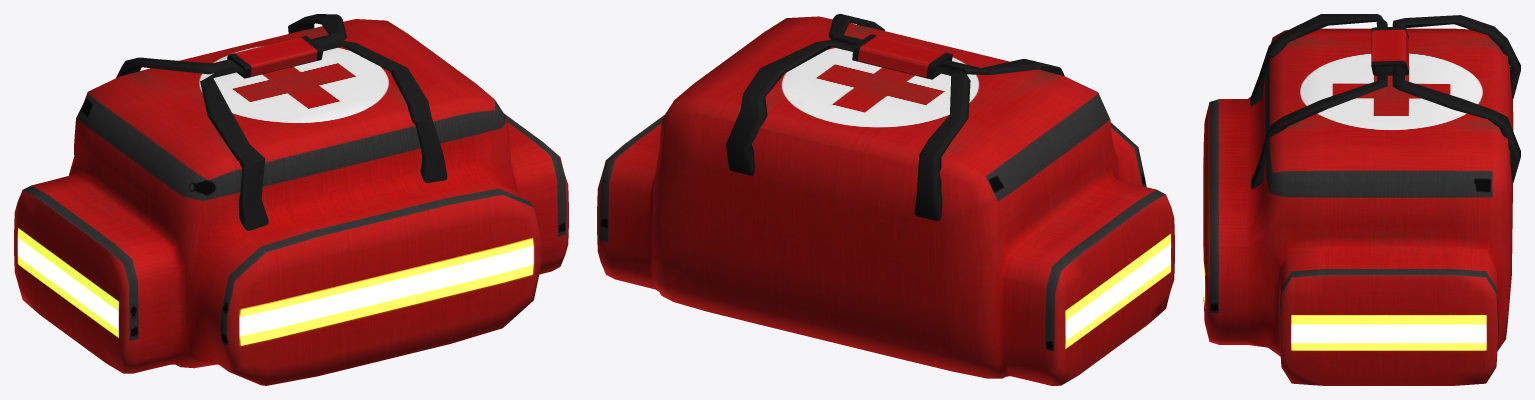
File: the_medical_bag.glb
The picture shows the model from 3 angles, left to right: view 1: azimuth 30°, elevation 25°; view 2: azimuth 150°, elevation 25°; view 3: azimuth 270°, elevation 25°; orthographic projection. The views are drawn at different scales.
Parts seen in each view (by area): view 1: Cube.002, Cube.003, Cube.004, Cube.005; view 2: Cube.002, Cube.004, Cube.005, Cube.003; view 3: Cube.002, Cube.004, Cube.003, Cube.005.
Boxes of the visible parts, x1=… form: Cube.002: x1=14, y1=19, x2=568, y2=385; Cube.003: x1=200, y1=40, x2=447, y2=230; Cube.004: x1=116, y1=14, x2=346, y2=77; Cube.005: x1=227, y1=36, x2=323, y2=78; Cube.002: x1=597, y1=16, x2=1174, y2=385; Cube.004: x1=726, y1=39, x2=970, y2=220; Cube.005: x1=852, y1=34, x2=952, y2=79; Cube.003: x1=828, y1=14, x2=1064, y2=76; Cube.002: x1=1203, y1=28, x2=1513, y2=385; Cube.004: x1=1392, y1=15, x2=1520, y2=182; Cube.003: x1=1250, y1=14, x2=1387, y2=189; Cube.005: x1=1371, y1=26, x2=1408, y2=75.
Bounding box in the file's own units: 399 × 212 × 255.
4 materials, 4 textured.
